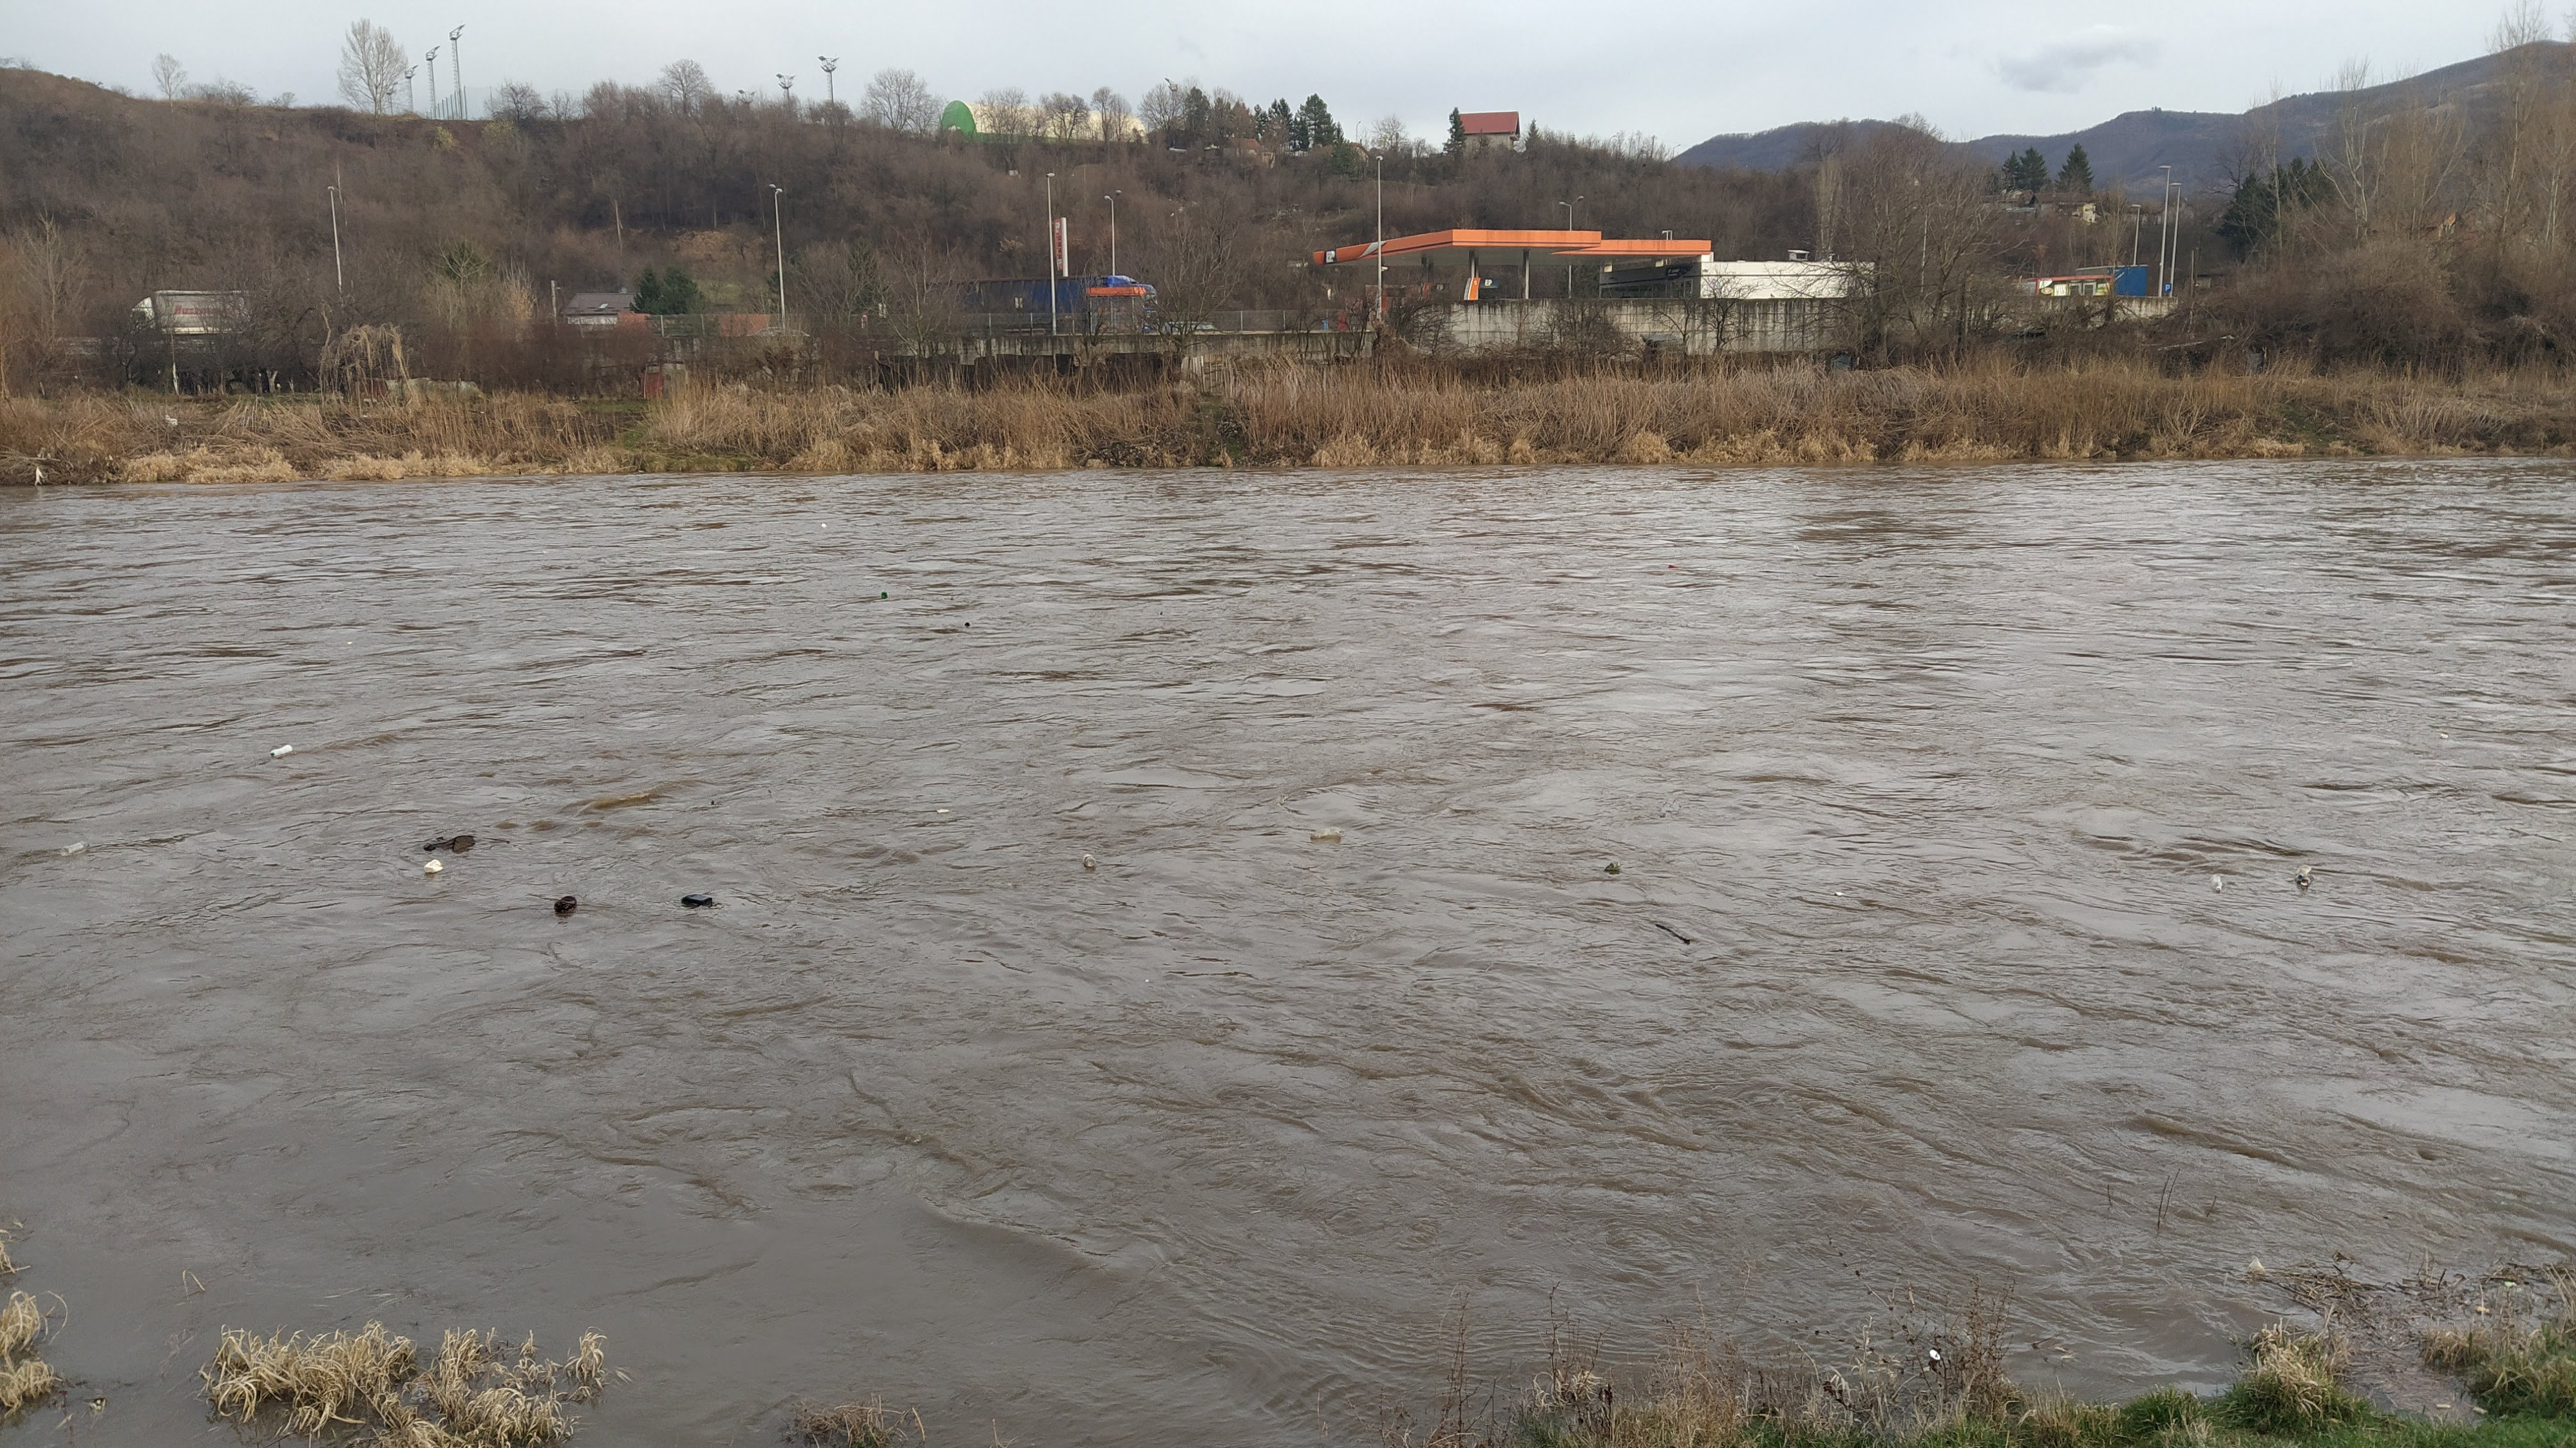Plastic Bottle: (60, 841, 90, 855), (554, 896, 577, 912), (1311, 827, 1343, 837), (681, 894, 711, 905), (2295, 864, 2311, 882), (271, 743, 292, 756), (2247, 1259, 2265, 1273), (2210, 873, 2222, 892), (1083, 853, 1097, 867), (425, 860, 441, 873), (936, 809, 947, 814), (1792, 545, 1799, 551), (881, 591, 886, 597), (821, 522, 824, 526)
